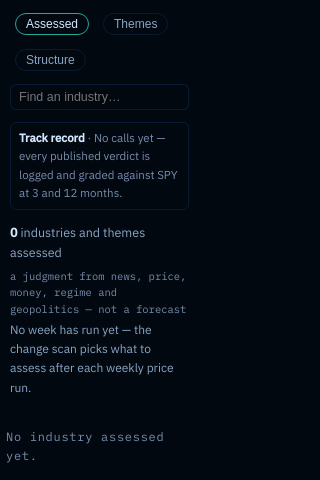
Test case: IndustryView — a failed read › says the read failed rather than that the engine has not run
Click the tab "Structure" at coordinates (50, 60), box [15, 49, 86, 71]
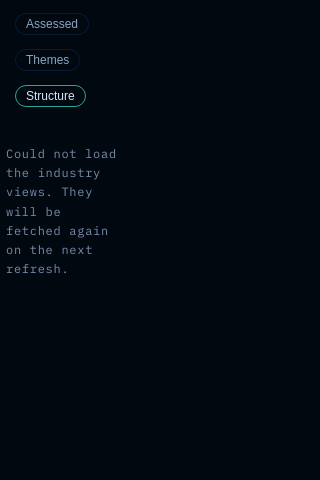
Result: the text "Could not load the industry views" is shown at [6, 146, 117, 276]
